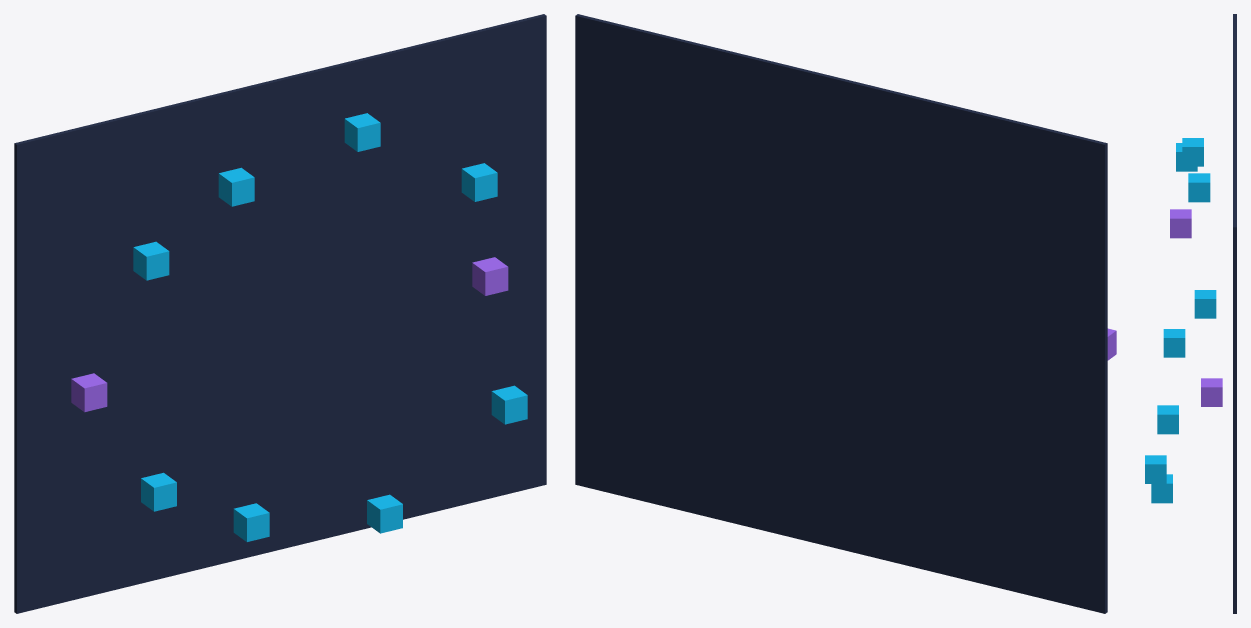
3 renders of one model, left to right at view 1: azimuth 30°, elevation 25°; view 2: azimuth 150°, elevation 25°; view 3: azimuth 270°, elevation 25°, orthographic. The views are drawn at different scales.
Parts seen in each view (by area): view 1: network-graph; view 2: network-graph; view 3: network-graph.
Part boxes in pixels (<box>): network-graph: <box>14,14,546,613</box>; network-graph: <box>575,14,1116,613</box>; network-graph: <box>1145,14,1236,613</box>.
Size of the model in its own units: 6.5 by 5.5 by 1.19.
